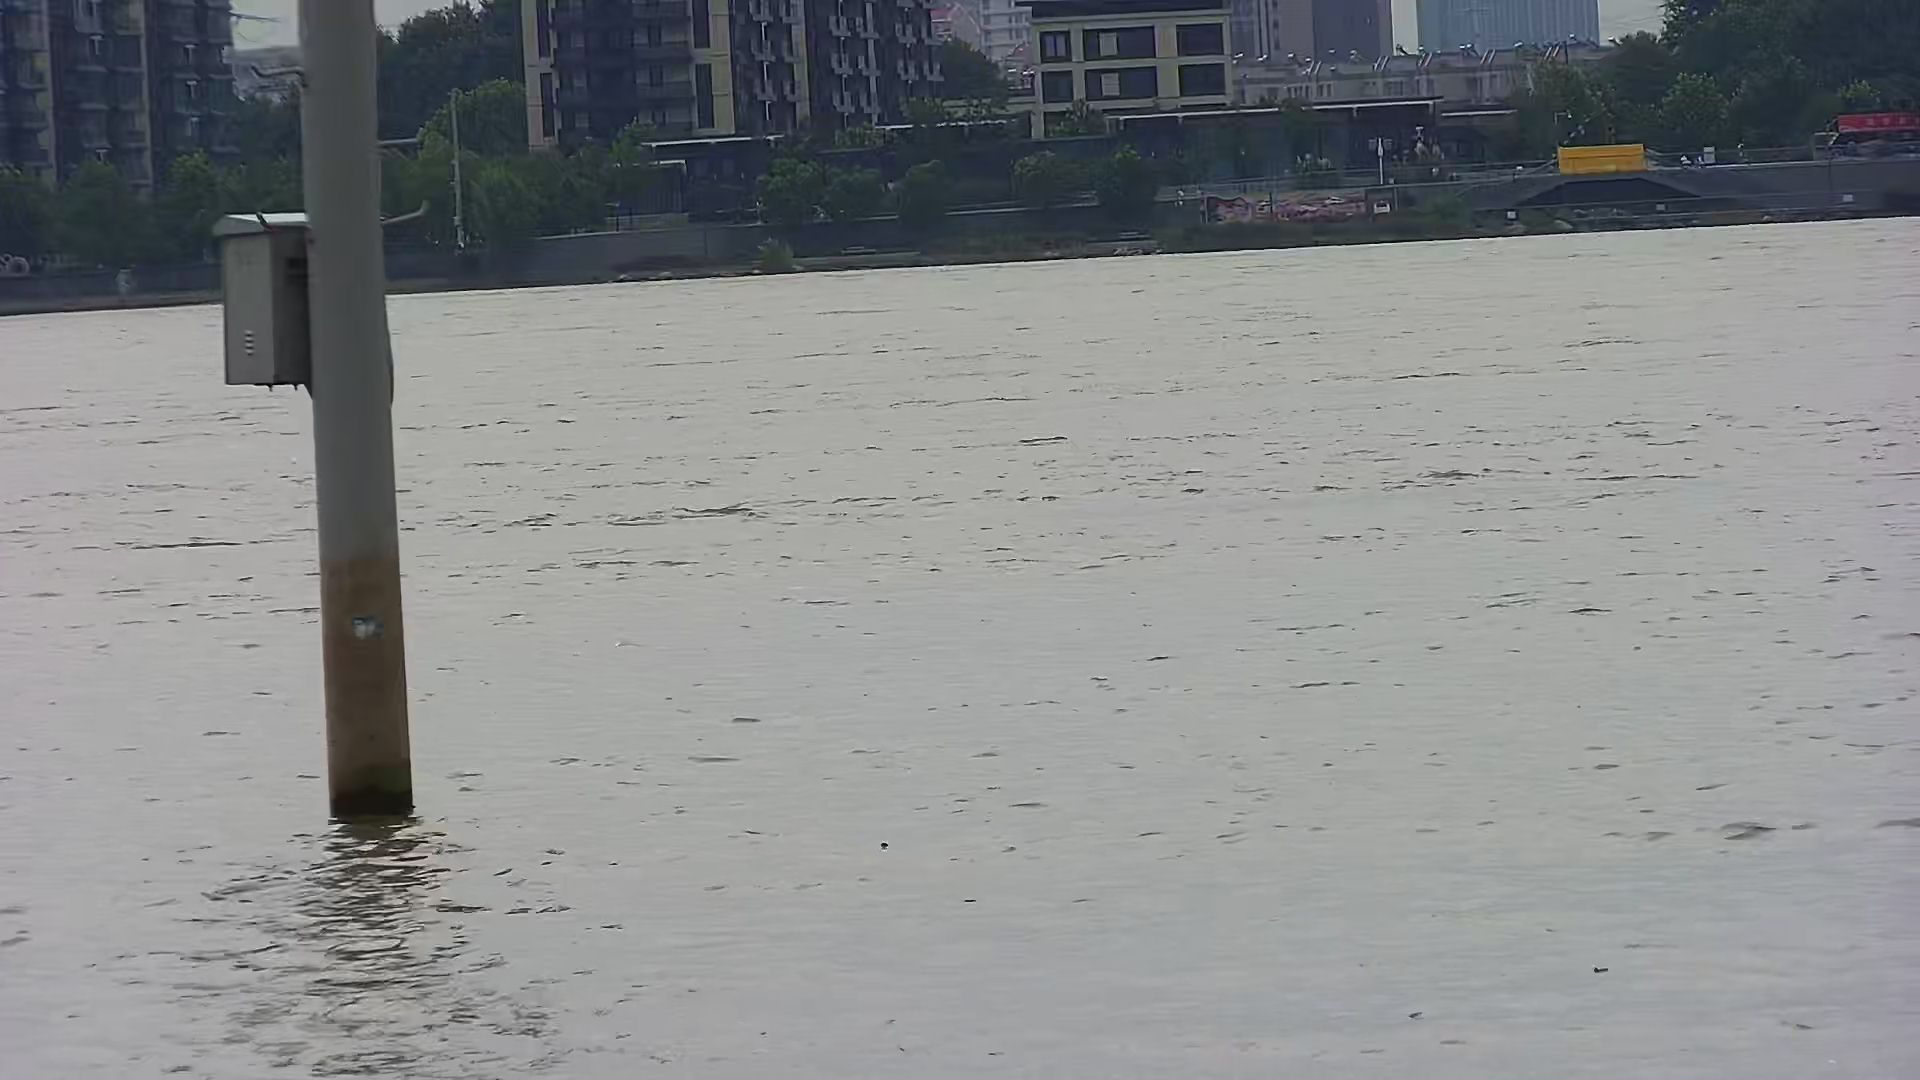mast: (216, 3, 415, 820)
